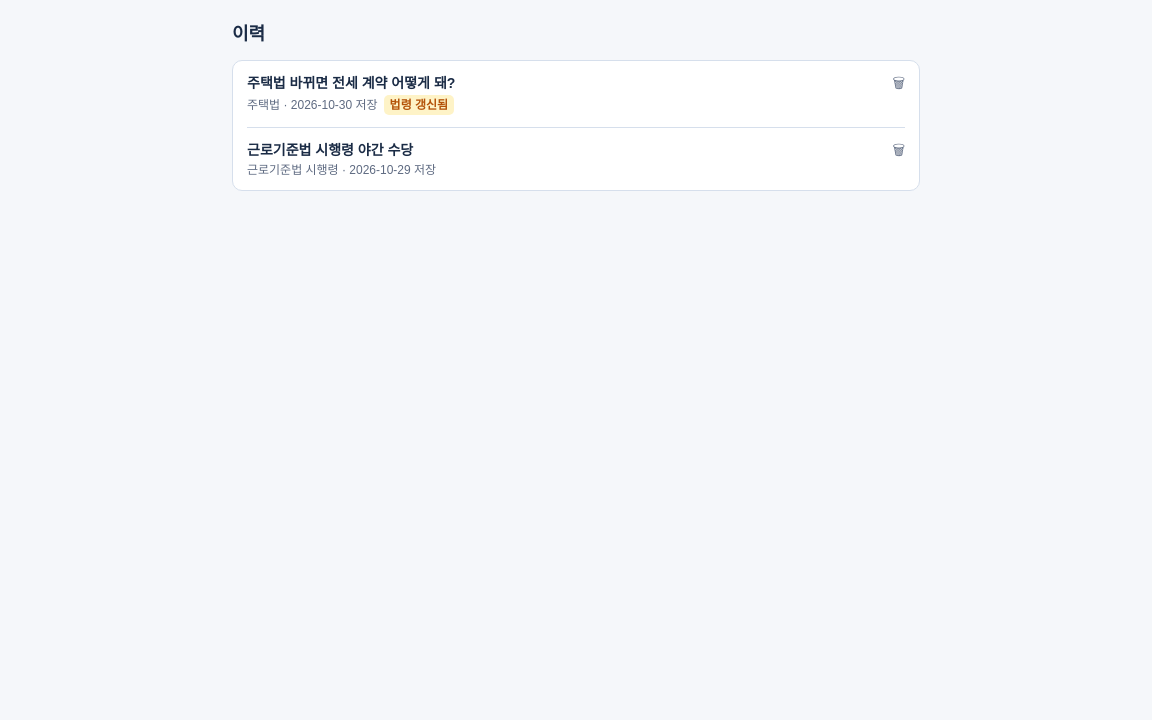
Test case: HistoryListView › 삭제는 확인 후 DELETE 하고 목록에서 빠진다
This screenshot has width=1152, height=720.
Click the button named "주택법 바뀌면 전세 계약 어떻게 돼? 이력 삭제": (899, 83) [892,73,905,93]
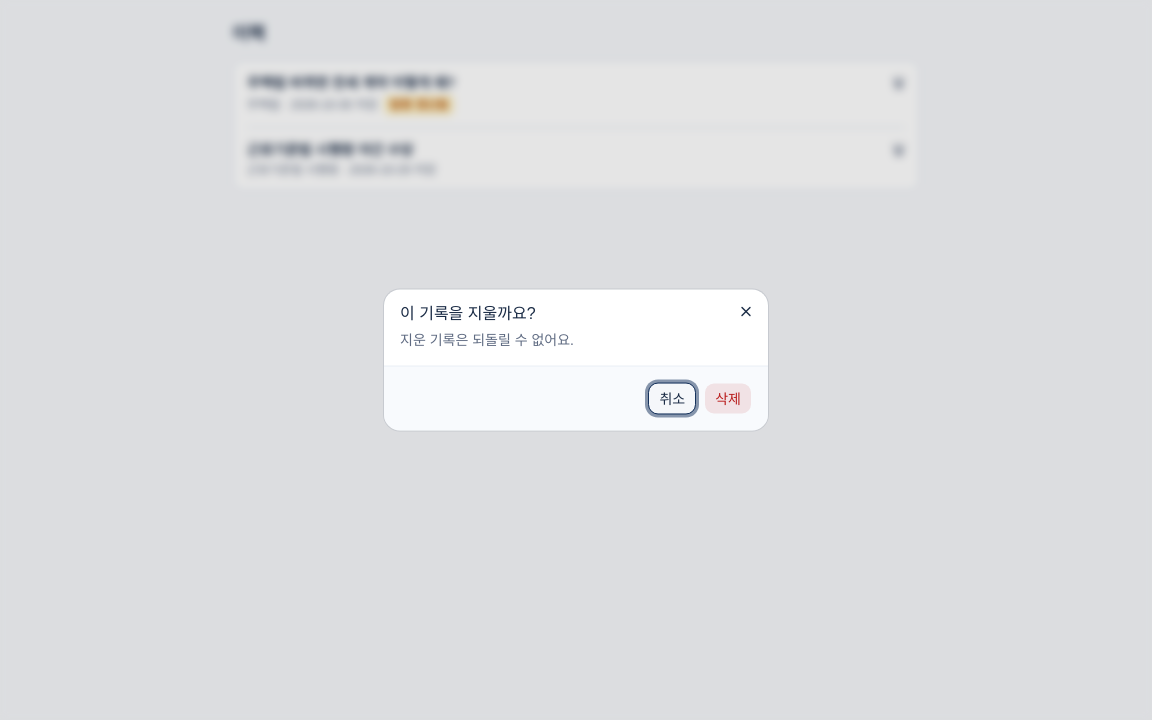
Now the heading "이 기록을 지울까요?" is shown, box [400,304,536,322]
Click the button "삭제": (728, 398) [704,382,752,414]
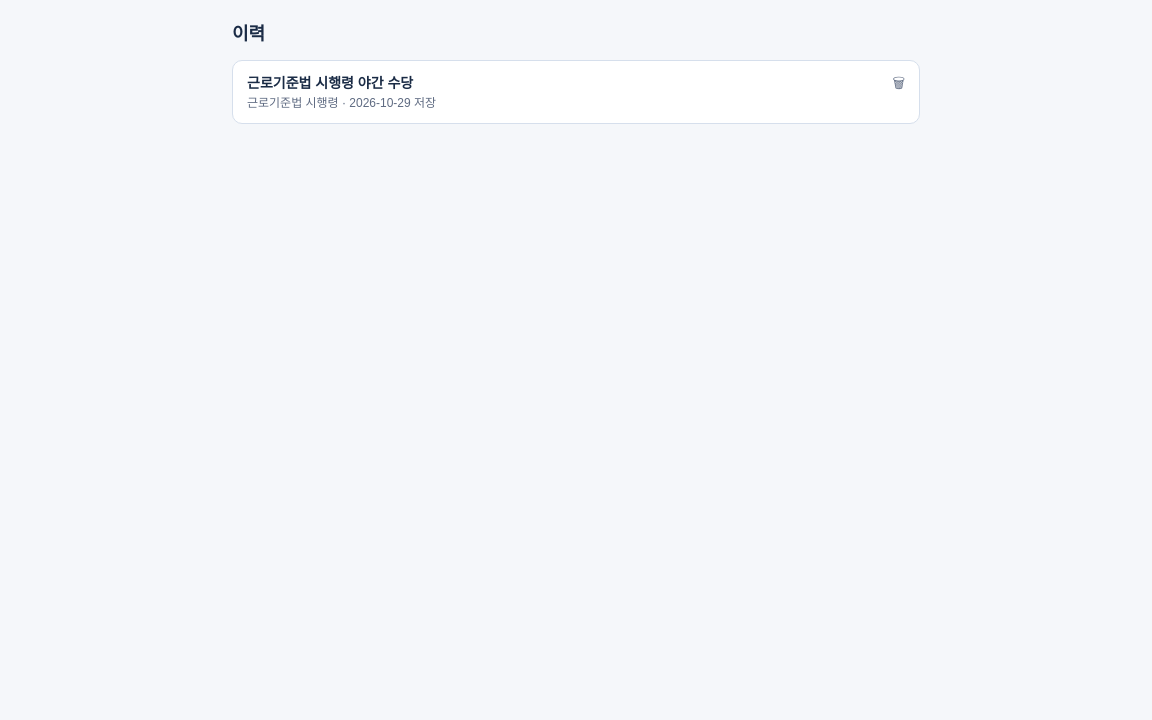
Now the link "주택법 바뀌면" is gone
